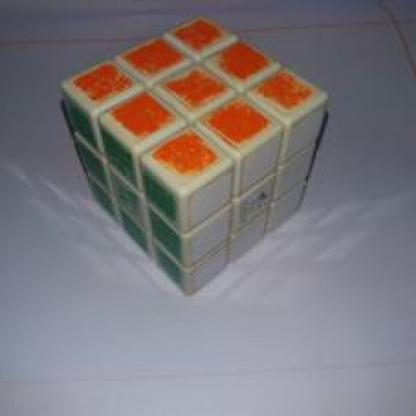cube: (63, 14, 332, 267)
